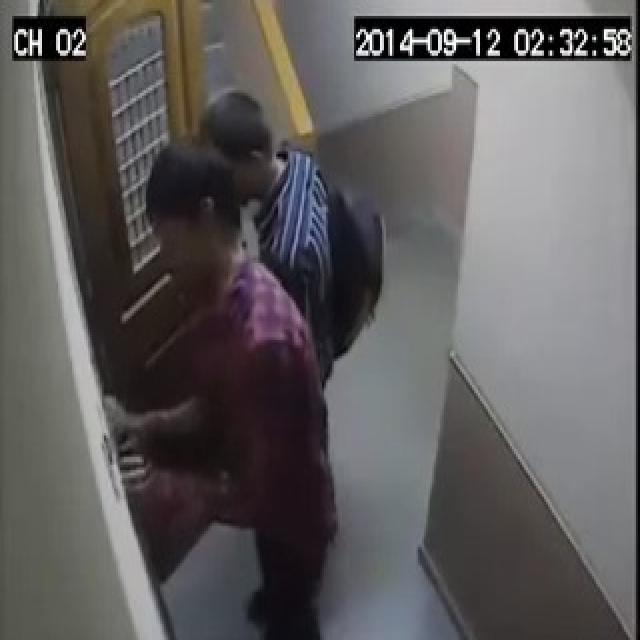burglary: (79, 177, 310, 512)
